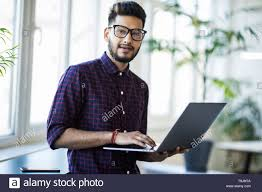Indian_Male: (109, 3, 149, 63)
